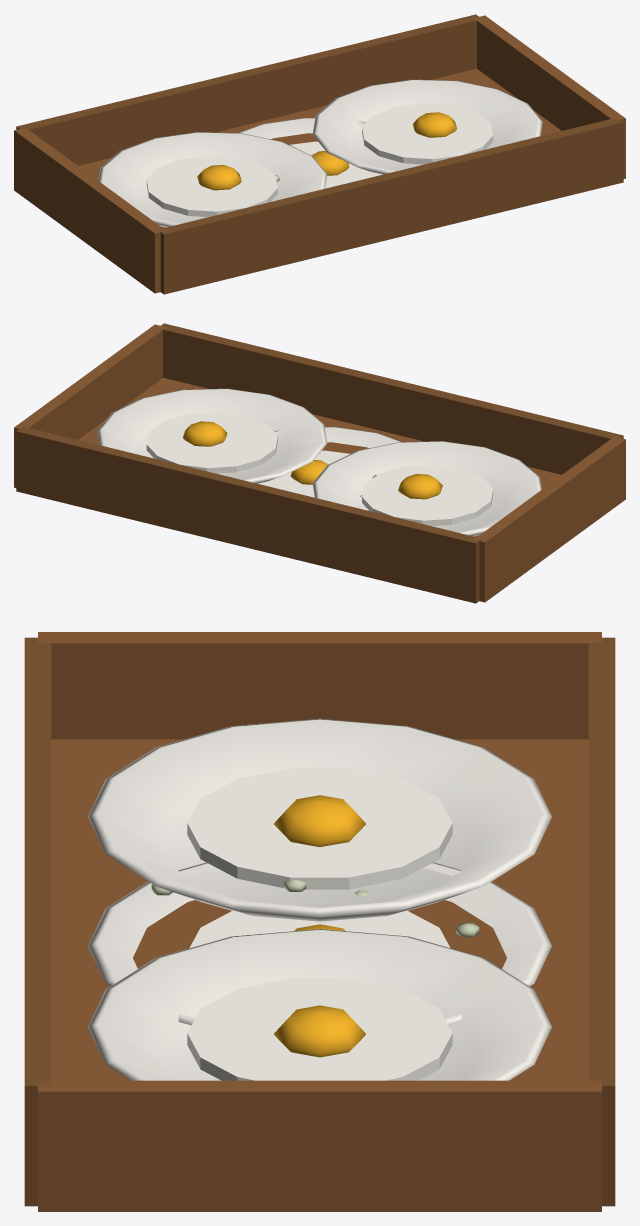
The model's file is Egg_Fried.fbx.
The picture shows the model from 3 angles, top to bottom: view 1: azimuth 30°, elevation 25°; view 2: azimuth 150°, elevation 25°; view 3: azimuth 270°, elevation 25°; orthographic projection. The views are drawn at different scales.
Visible parts, largest first — view 1: Egg_Fried__Stack, Egg_Fried; view 2: Egg_Fried__Stack, Egg_Fried; view 3: Egg_Fried__Stack, Egg_Fried.
Part boxes in pixels (x1,y1,x2,y2): Egg_Fried__Stack: (14,14,625,294); Egg_Fried: (237,118,381,188); Egg_Fried__Stack: (14,323,625,603); Egg_Fried: (258,427,402,497); Egg_Fried__Stack: (24,632,615,1211); Egg_Fried: (88,862,551,1025).
Bounding box in the file's own units: 0.328 × 0.04 × 0.178.
